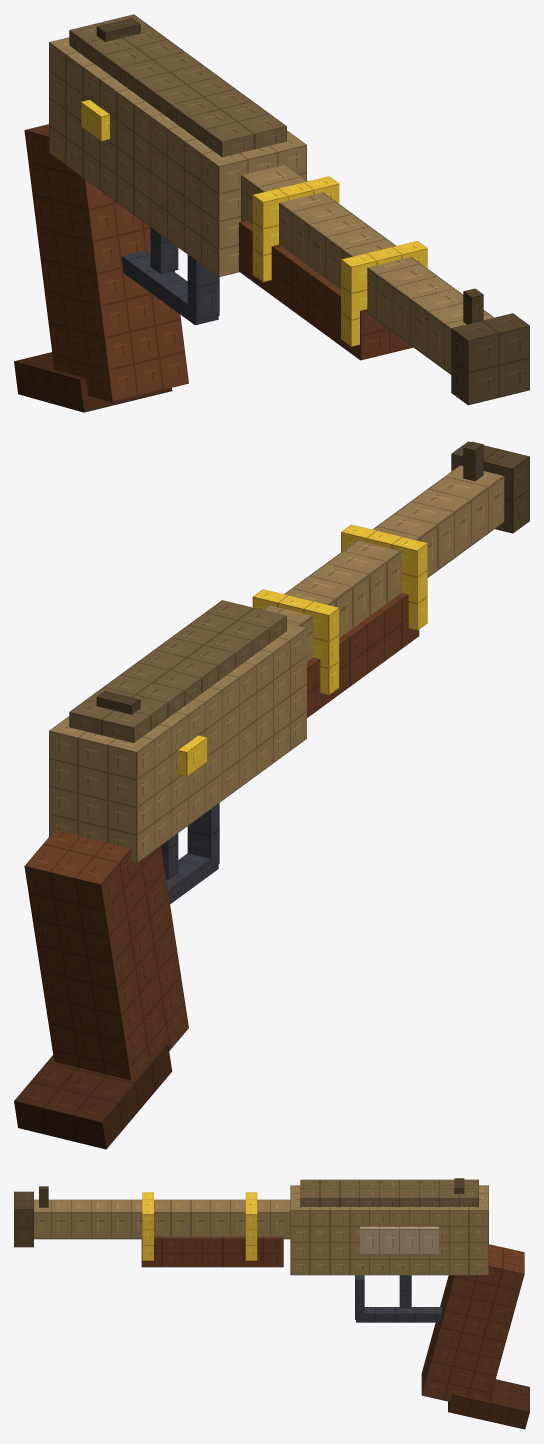
3 renders of one model, top to bottom at view 1: azimuth 30°, elevation 25°; view 2: azimuth 150°, elevation 25°; view 3: azimuth 270°, elevation 25°, orthographic. The views are drawn at different scales.
Parts seen in each view (by area): view 1: W10; view 2: W10; view 3: W10.
Part boxes in pixels (x1,y1,x2,y2): W10: [14, 14, 529, 412]; W10: [14, 441, 529, 1149]; W10: [14, 1178, 529, 1429].
Bounding box in the file's own units: 0.36 × 1.3 × 2.6.
Materials: 1 (1 with a texture image).
